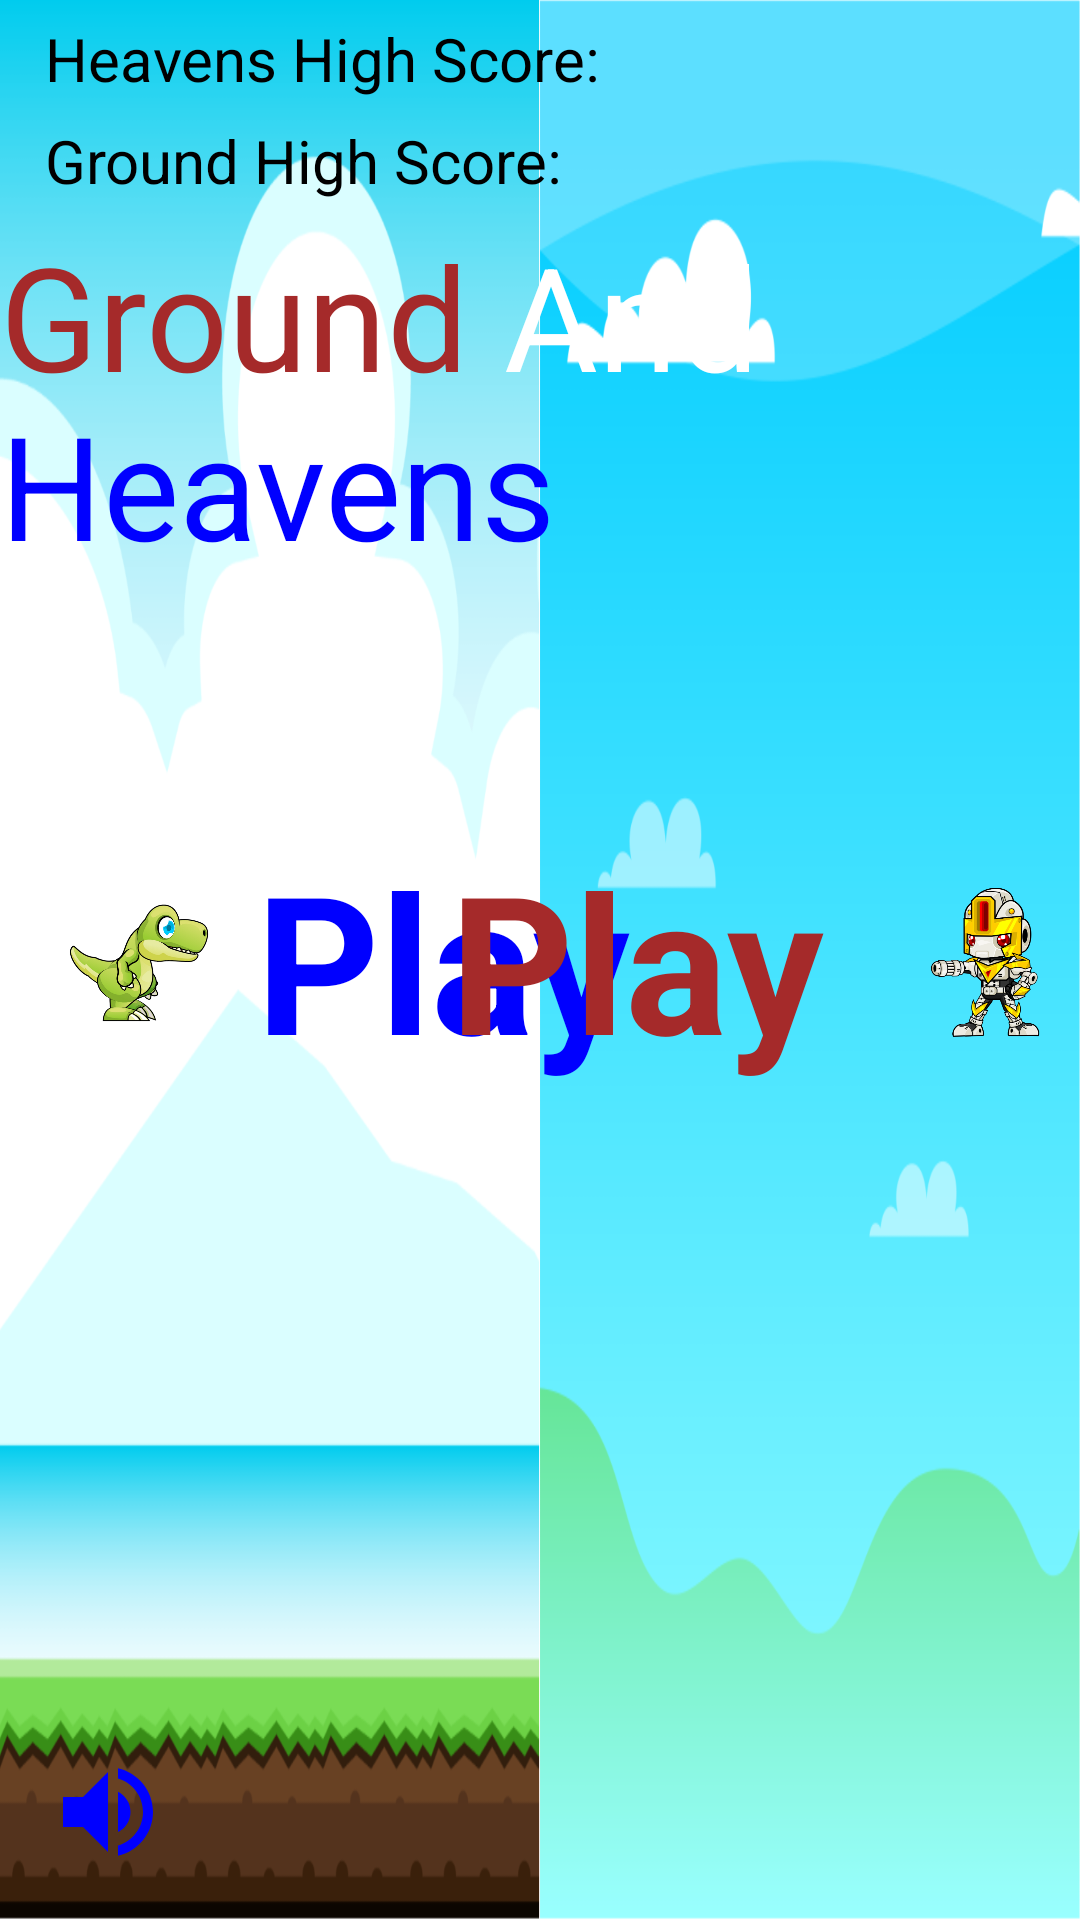

Where to tap for icons on this 1080x1920 app screen, as (x=x, y=y):
dino turned: (x=177, y=985)
robot turned: (x=985, y=962)
volume up: (x=108, y=1812)
